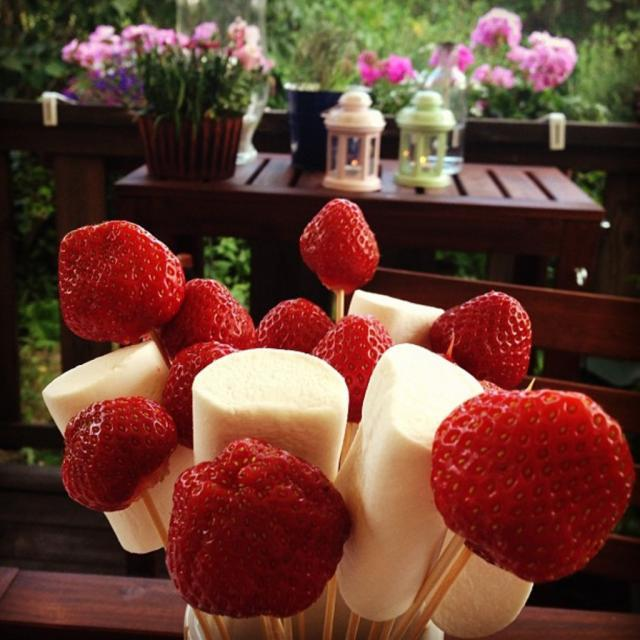Strawberry: (417, 383, 615, 586), (168, 435, 351, 621), (57, 220, 185, 346), (61, 395, 177, 513), (434, 296, 534, 392), (310, 314, 392, 426), (159, 272, 252, 363), (162, 343, 236, 452), (301, 197, 381, 295), (245, 302, 334, 356)
